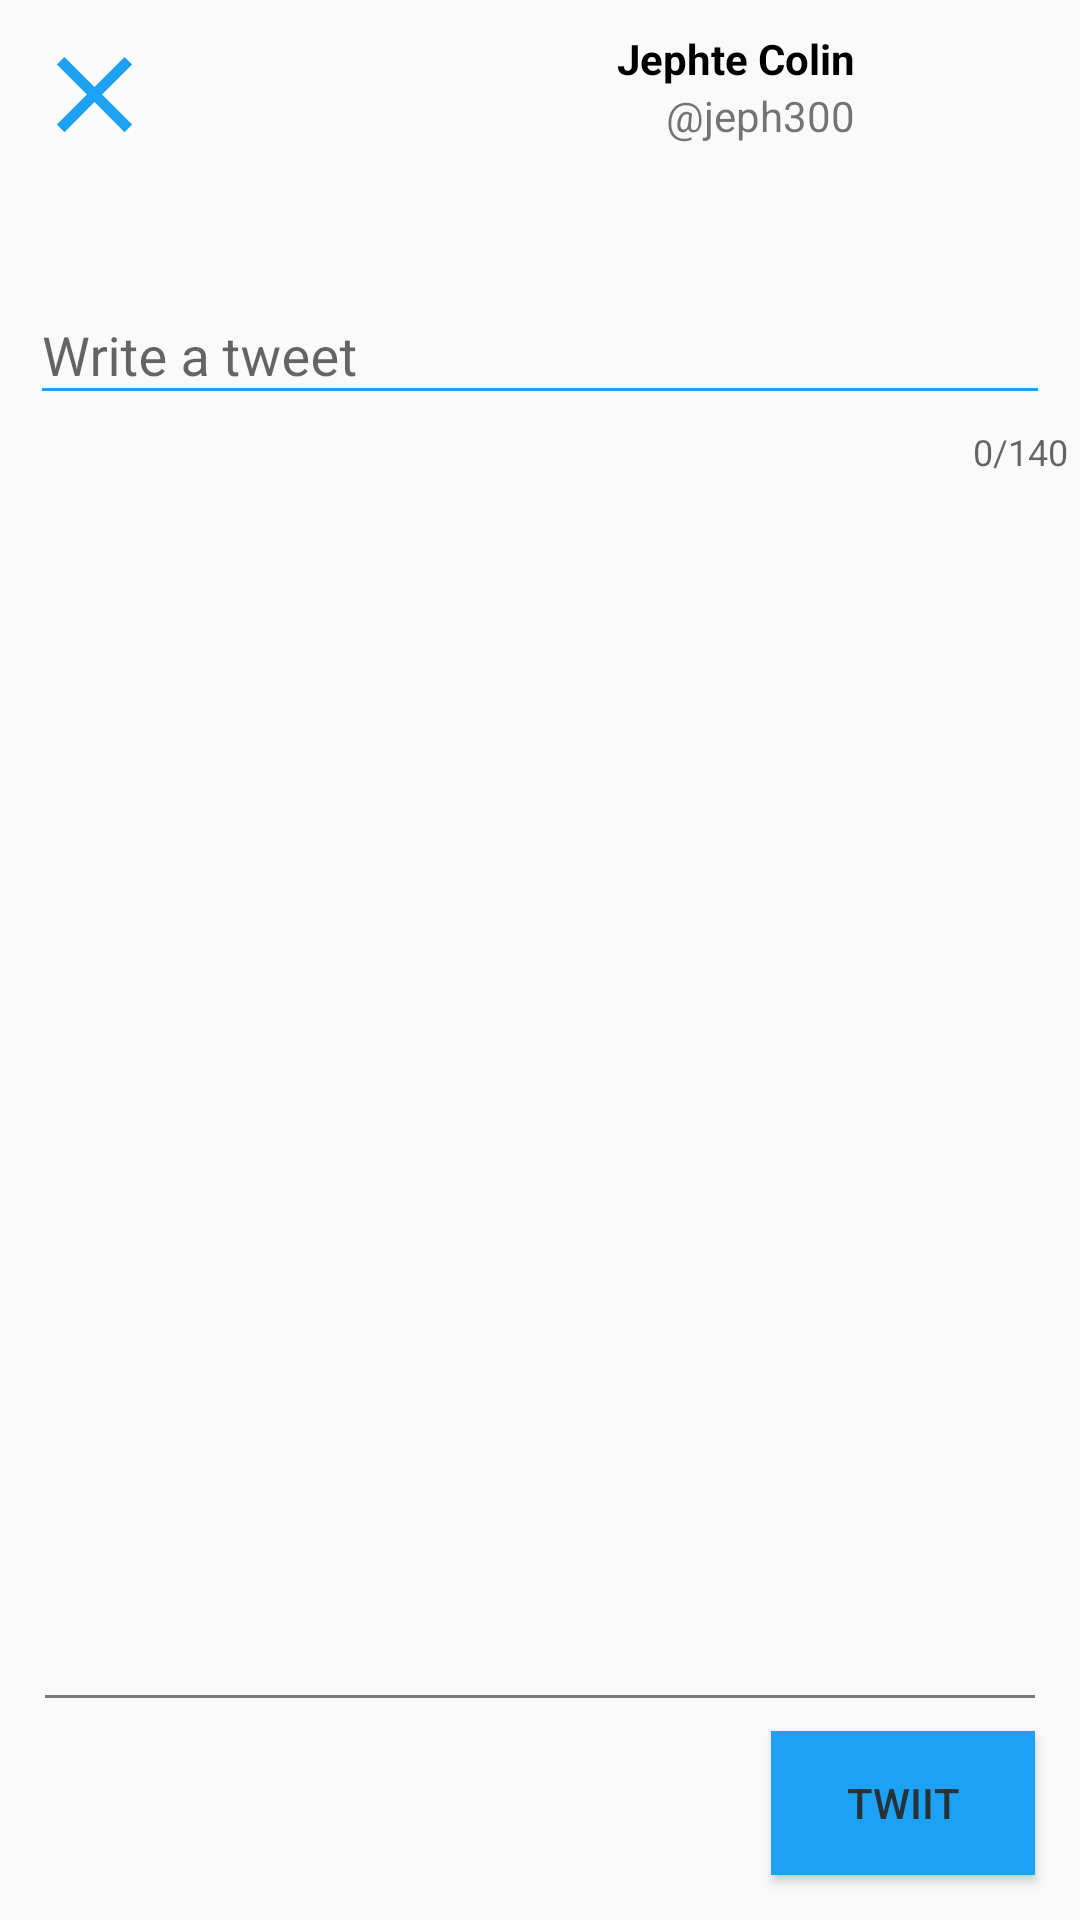

Screen size 1080*1920. Icon name, then its center in pixels as (x,y):
clear: (94,94)
